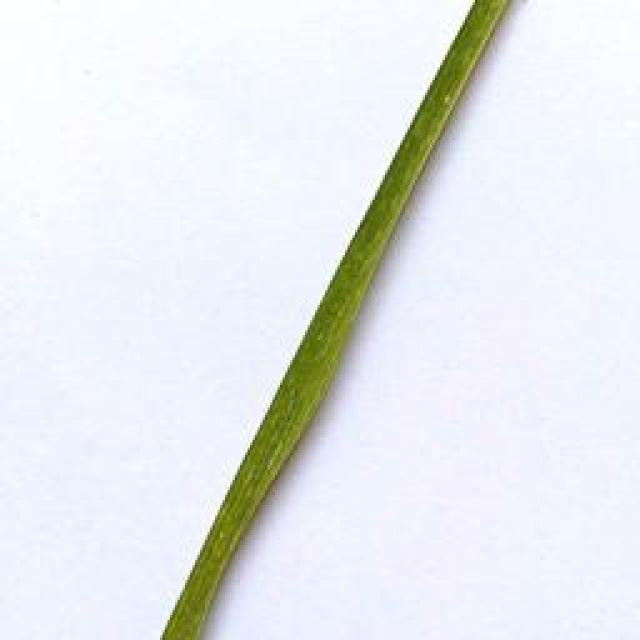Healthy-Plant: (160, 0, 516, 640)
